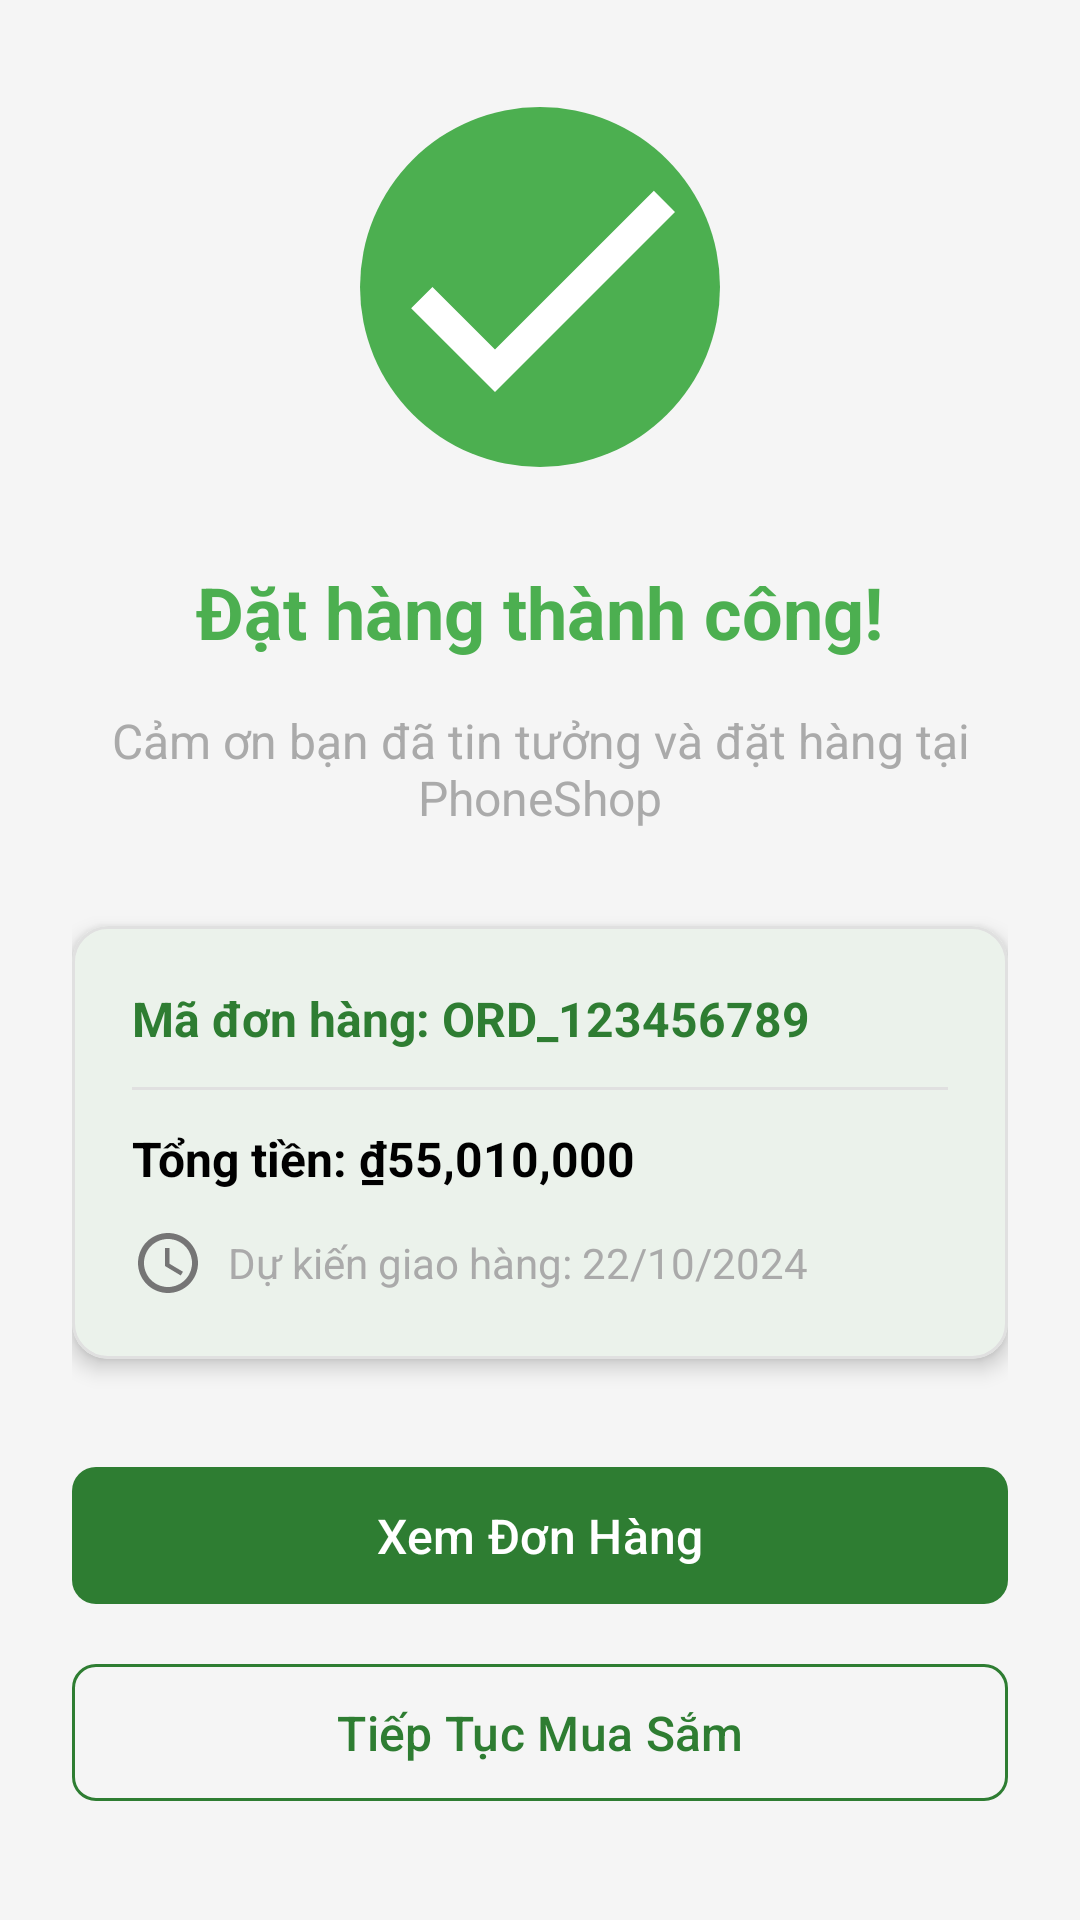

Icon click points for this 1080px×1920px phone screenshot, format [x,y]:
success check: [540,287]
